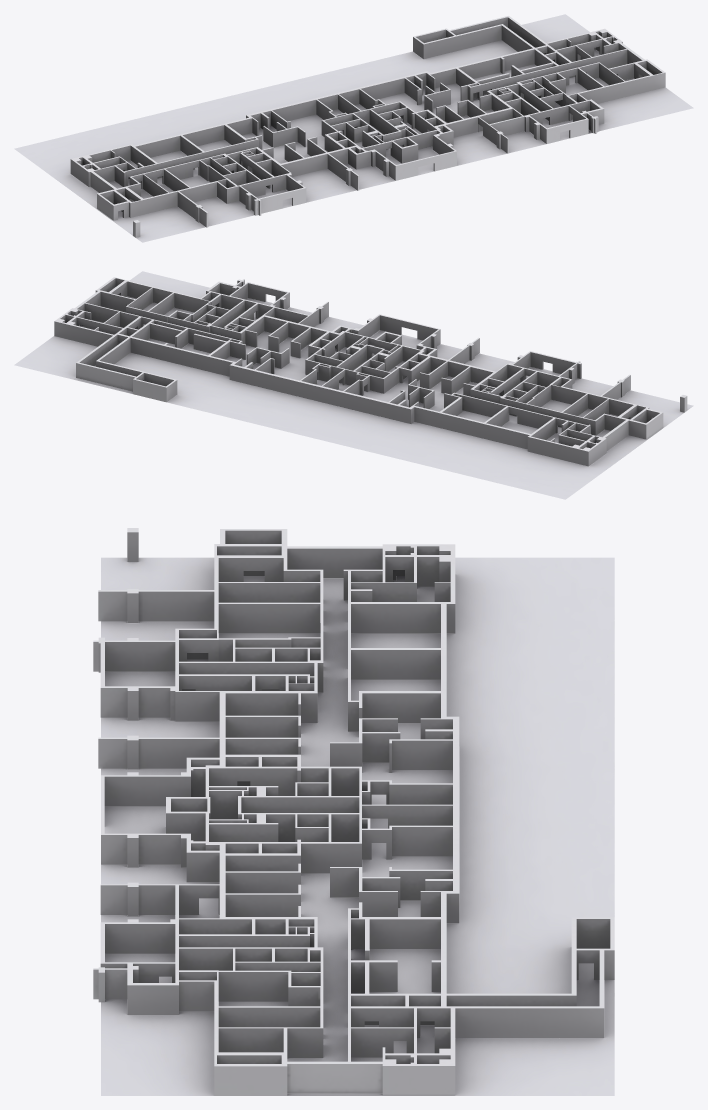
Rendered from BLD-1-B1.FBX.
The picture shows the model from 3 angles, top to bottom: view 1: azimuth 30°, elevation 25°; view 2: azimuth 150°, elevation 25°; view 3: azimuth 270°, elevation 25°; orthographic projection. The views are drawn at different scales.
Parts seen in each view (by area): view 1: Indoor-Type-B1, Plane573; view 2: Indoor-Type-B1, Plane573; view 3: Indoor-Type-B1, Plane573.
Part boxes in pixels (box(x1,y1,x2,y2)): Indoor-Type-B1: box(70, 16, 665, 237); Plane573: box(14, 14, 693, 242); Indoor-Type-B1: box(54, 277, 687, 466); Plane573: box(14, 271, 693, 499); Indoor-Type-B1: box(93, 528, 614, 1095); Plane573: box(101, 557, 614, 1095).
Size of the model in its own units: 62.48 by 1.6 by 25.57.
